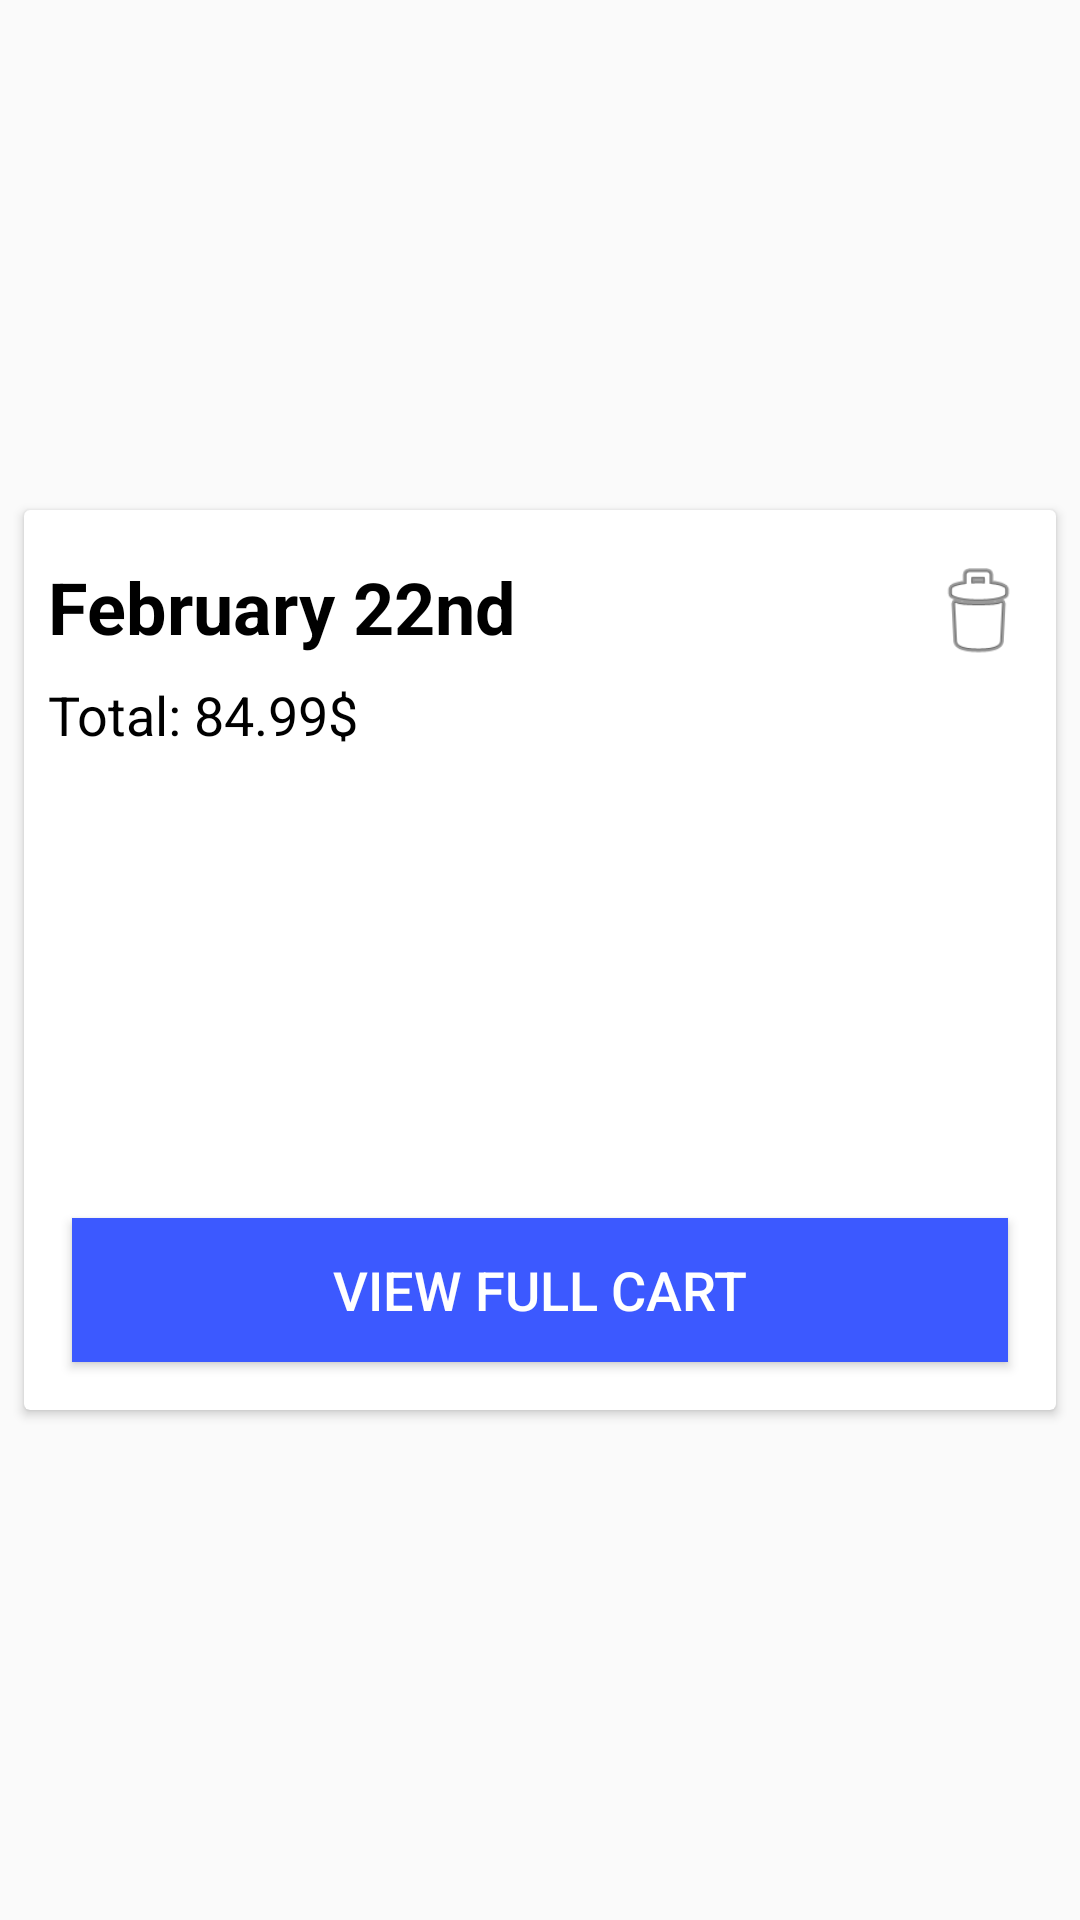

Icon click points for this 1080px x 1920px phone screenshot, format (x,y):
delete: (978,610)
